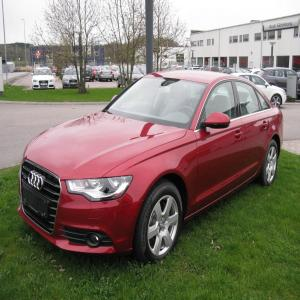Vehicle-registration-plate: (23, 185, 50, 217), (71, 80, 79, 86), (41, 84, 48, 87)
